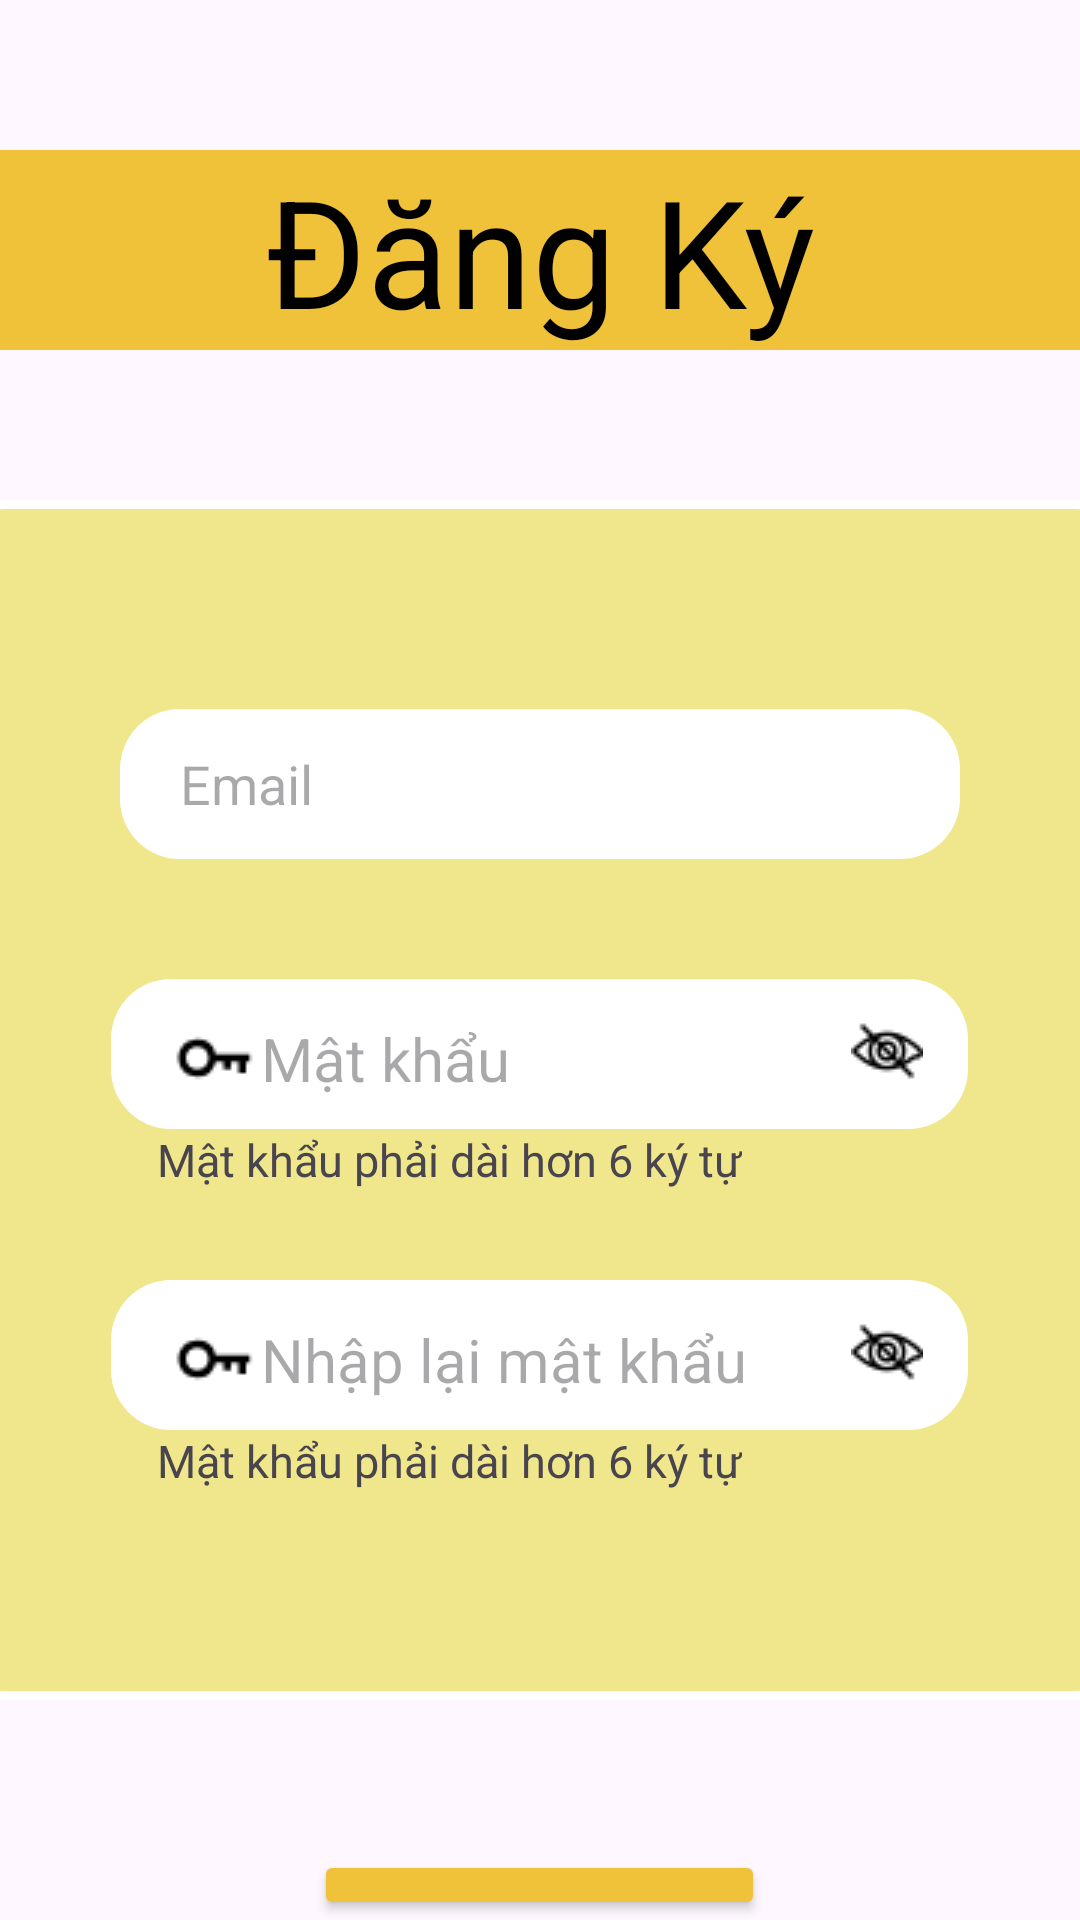

Point at icon controls on the screen. Image size 1080*1920, points as (x,y).
vision off: (887,1051), (887,1352)
